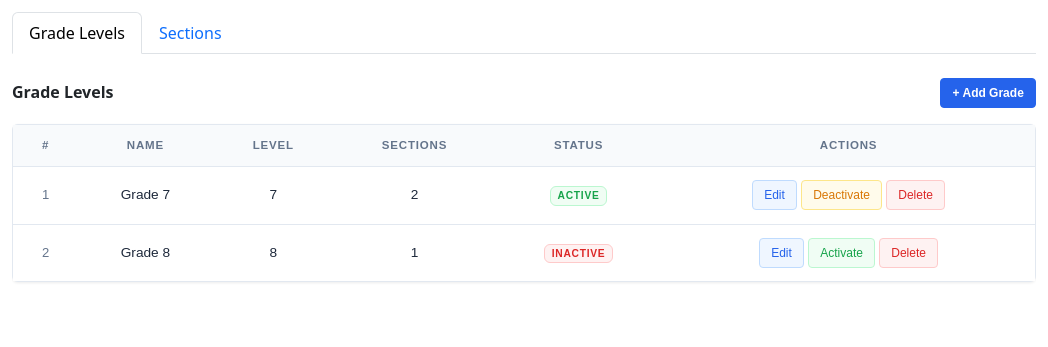
Test: GradeSectionPage › sections › filters sections by grade level
Click the button with class "nav-link" showing "Sections" at (190, 33), box left=142, top=12, right=239, bottom=54
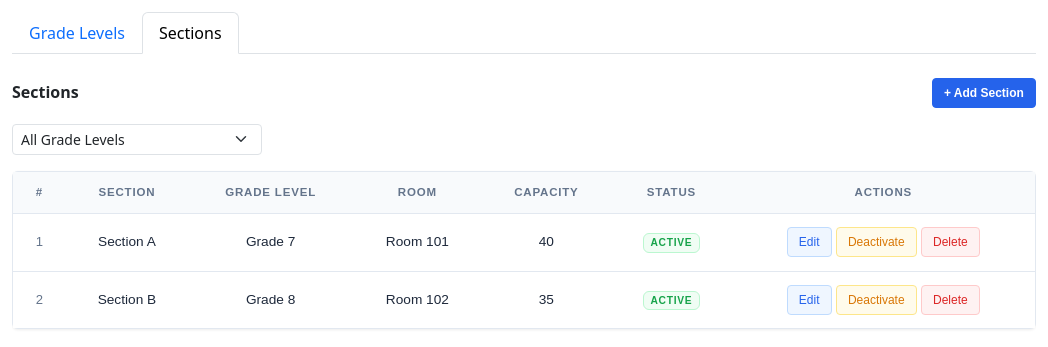
Select "Grade 7" in the dropdown with class "form-select-sm" at (137, 139), box left=12, top=124, right=262, bottom=155
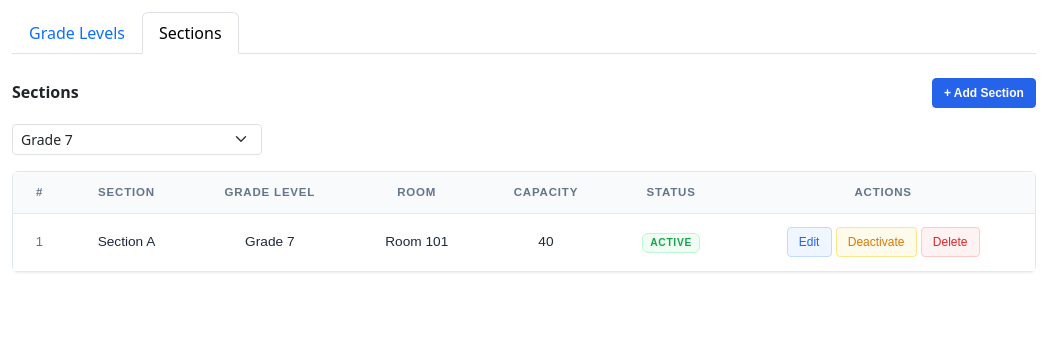
Now the text "Section A" is shown, box left=66, top=213, right=187, bottom=271
Now the text "Section B" is gone
